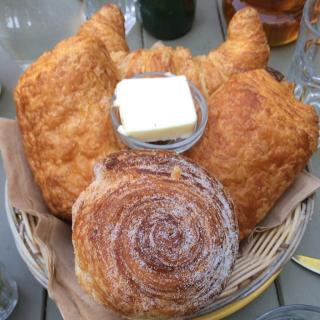Croissant: (70, 149, 240, 318), (77, 4, 271, 110)
